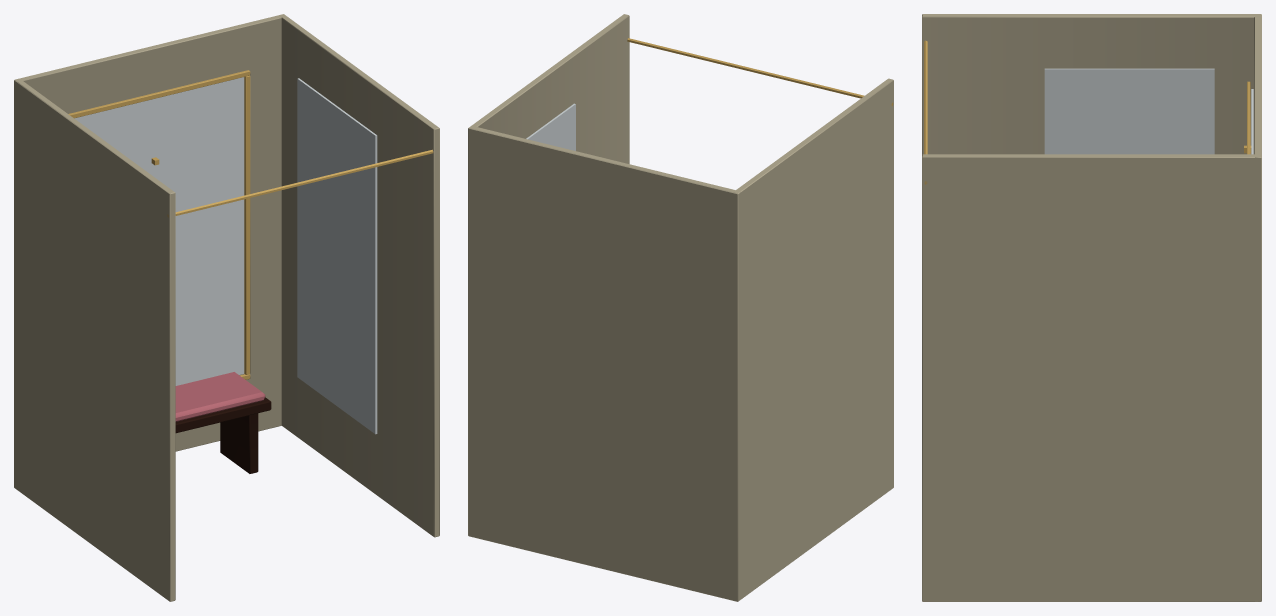
Rendered from mall-fitting-room.glb.
The picture shows the model from 3 angles, left to right: view 1: azimuth 30°, elevation 25°; view 2: azimuth 150°, elevation 25°; view 3: azimuth 270°, elevation 25°; orthographic projection. The views are drawn at different scales.
Visible parts, largest first — view 1: walls__plaster, mirror__mirror, trim__brass, bench__wood, cushion__fabric; view 2: walls__plaster, mirror__mirror, trim__brass; view 3: walls__plaster, mirror__mirror, trim__brass.
Part boxes in pixels (x1=…): walls__plaster: x1=14, y1=14, x2=439, y2=601; mirror__mirror: x1=74, y1=77, x2=377, y2=434; trim__brass: x1=68, y1=70, x2=433, y2=379; bench__wood: x1=175, y1=397, x2=271, y2=473; cushion__fabric: x1=175, y1=372, x2=265, y2=421; walls__plaster: x1=468, y1=14, x2=893, y2=601; mirror__mirror: x1=526, y1=103, x2=575, y2=150; trim__brass: x1=627, y1=38, x2=893, y2=106; walls__plaster: x1=922, y1=14, x2=1261, y2=601; mirror__mirror: x1=1044, y1=68, x2=1253, y2=154; trim__brass: x1=924, y1=40, x2=1251, y2=184.
Size of the model in its own units: 1.8 by 2.6 by 1.8.
